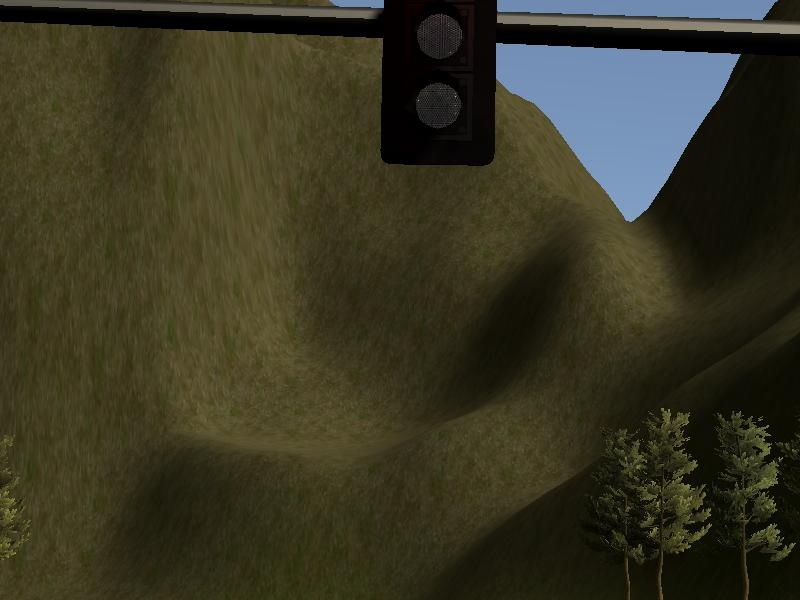Off: (379, 2, 503, 179)
